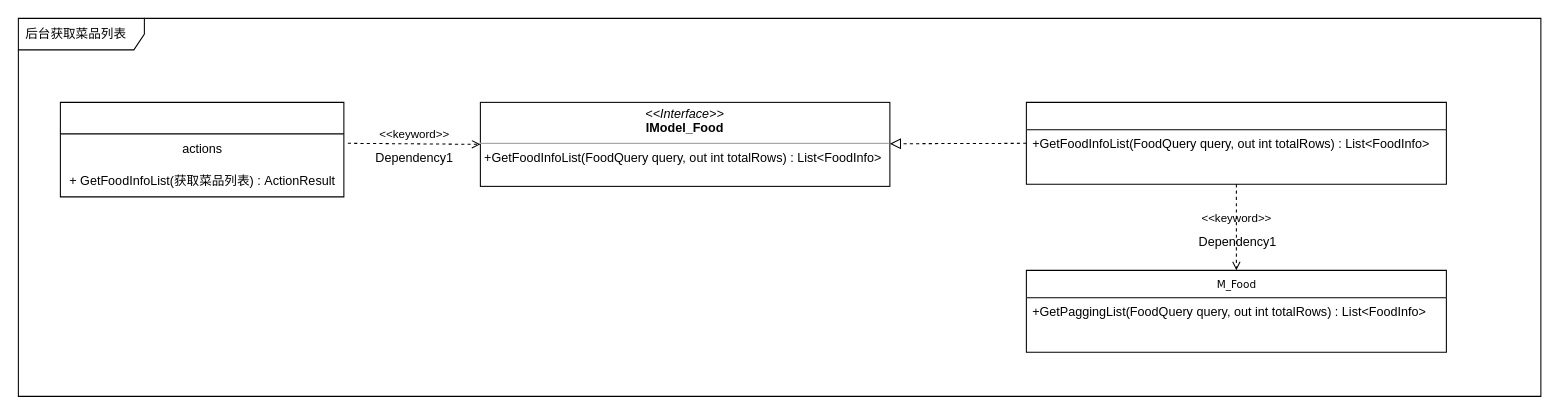
Some shapes in this 1559 by 415 pixel diagram are drawn without their labels. Each missing label, with the box of its shape:
FoodController(菜品管理控制器): (59, 101, 344, 197)
Model_Food: (1025, 101, 1446, 184)
